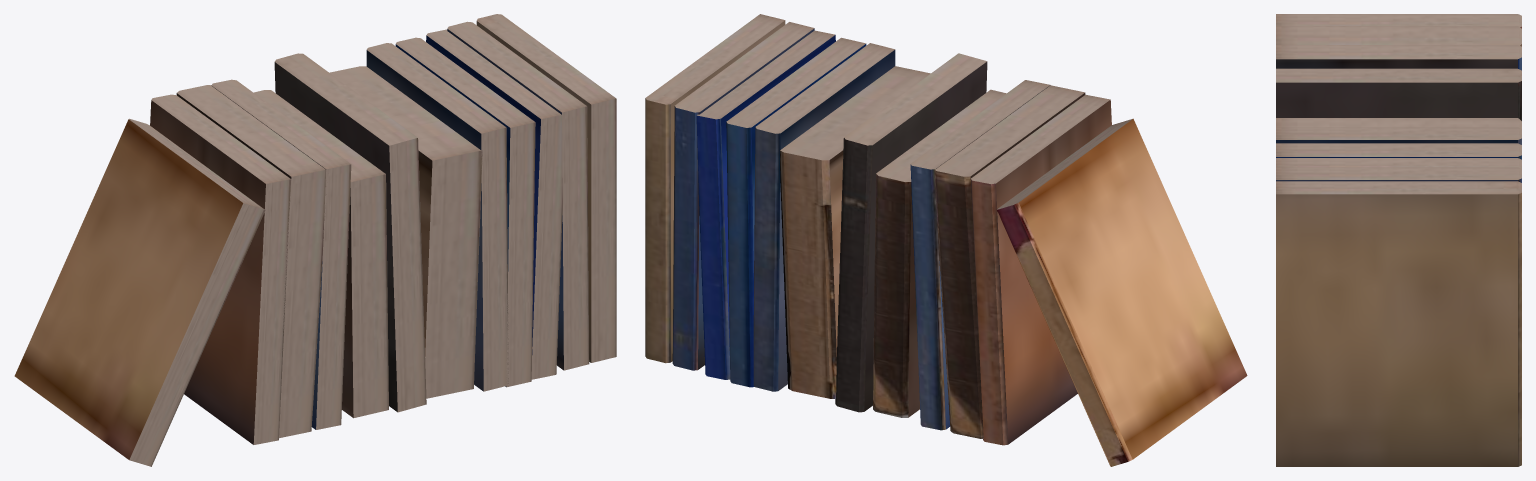
The model's file is book-row.glb.
The picture shows the model from 3 angles, left to right: view 1: azimuth 30°, elevation 25°; view 2: azimuth 150°, elevation 25°; view 3: azimuth 270°, elevation 25°; orthographic projection. The views are drawn at different scales.
Visible parts, largest first — view 1: books.001_Material.001_0; view 2: books.001_Material.001_0; view 3: books.001_Material.001_0.
Part boxes in pixels (bbox=[...]): books.001_Material.001_0: bbox=[14, 14, 616, 466]; books.001_Material.001_0: bbox=[645, 14, 1247, 466]; books.001_Material.001_0: bbox=[1276, 14, 1521, 466].
Bounding box in the file's own units: 5.67 × 3.02 × 2.35.
Materials: 1 (1 with a texture image).
